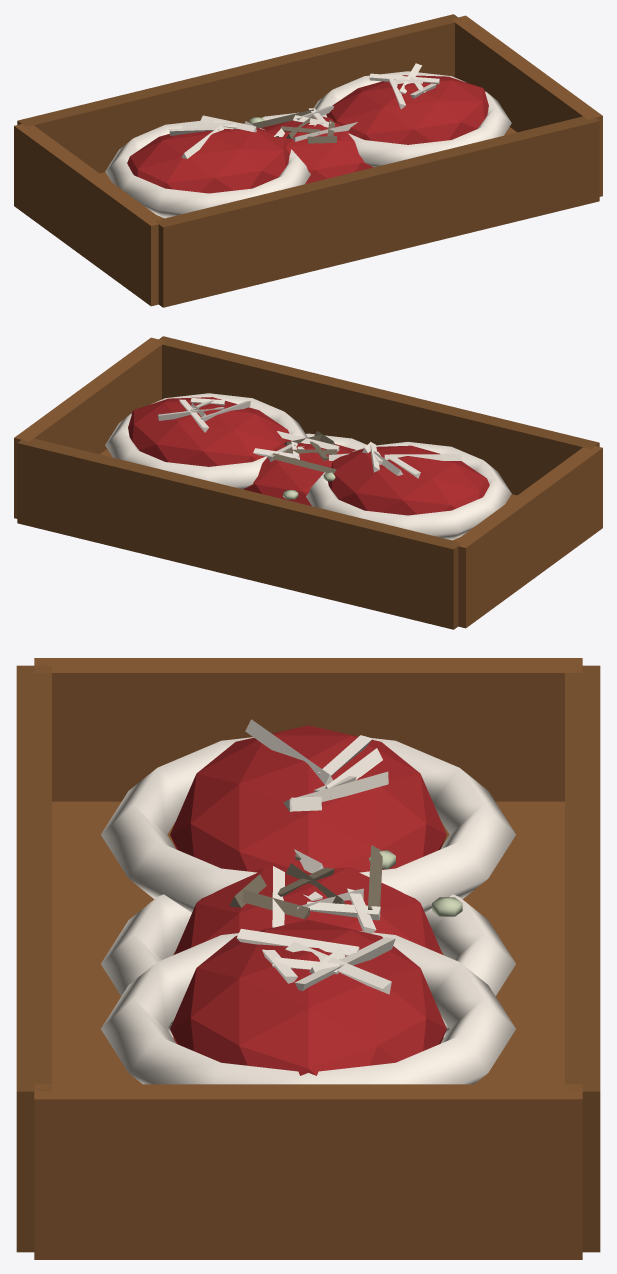
Rendered from Meat_Beef.fbx.
3 views of the same model, one above another, from view 1: azimuth 30°, elevation 25°; view 2: azimuth 150°, elevation 25°; view 3: azimuth 270°, elevation 25° (orthographic). The views are drawn at different scales.
Parts seen in each view (by area): view 1: Meat_Beef__Stack, Meat_Beef, Meat_Beef__Rotten; view 2: Meat_Beef__Stack, Meat_Beef, Meat_Beef__Rotten; view 3: Meat_Beef__Stack, Meat_Beef, Meat_Beef__Rotten.
Part boxes in pixels (x1,y1,x2,y2): Meat_Beef__Stack: (14, 14, 602, 307); Meat_Beef: (261, 106, 373, 183); Meat_Beef__Rotten: (249, 109, 336, 143); Meat_Beef__Stack: (14, 336, 602, 629); Meat_Beef: (243, 431, 366, 505); Meat_Beef__Rotten: (272, 431, 346, 499); Meat_Beef__Stack: (16, 658, 600, 1259); Meat_Beef: (101, 849, 515, 1037); Meat_Beef__Rotten: (170, 845, 462, 1023).
Size of the model in its own units: 0.2355 by 0.046 by 0.1318.
